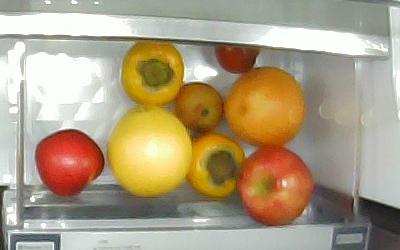apple: (238, 145, 313, 228), (35, 127, 104, 199)
grapefruit: (107, 105, 191, 197), (224, 66, 304, 147)
persimmon: (121, 40, 184, 107), (188, 132, 245, 198)
prune: (176, 83, 224, 134), (214, 44, 261, 73)
